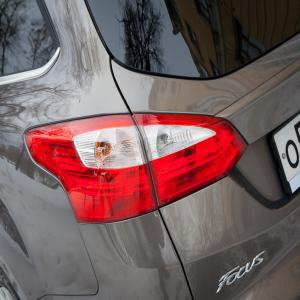Vehicle-registration-plate: (270, 113, 300, 200)
